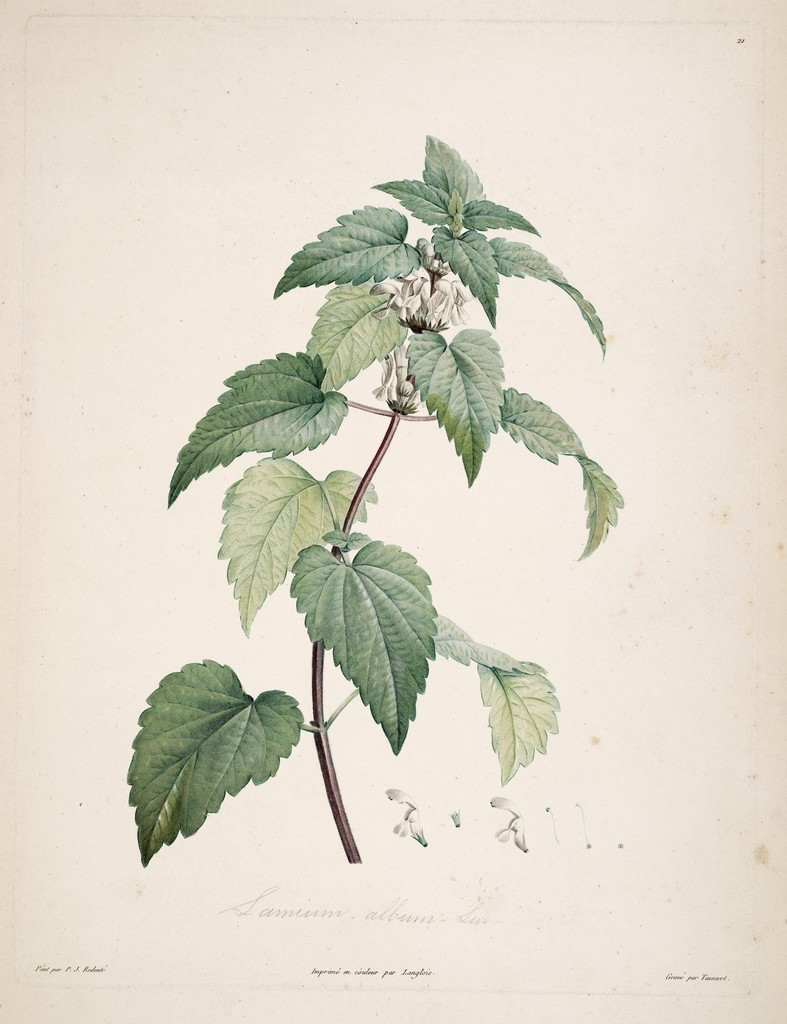Tree: (125, 135, 623, 860)
